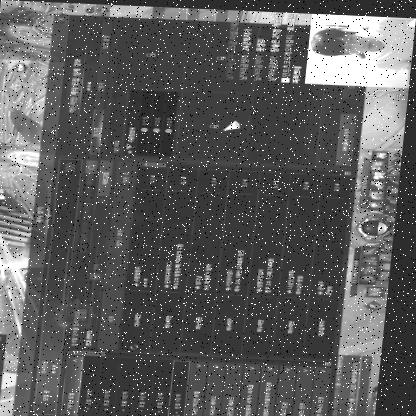streamer: (308, 11, 416, 70)
